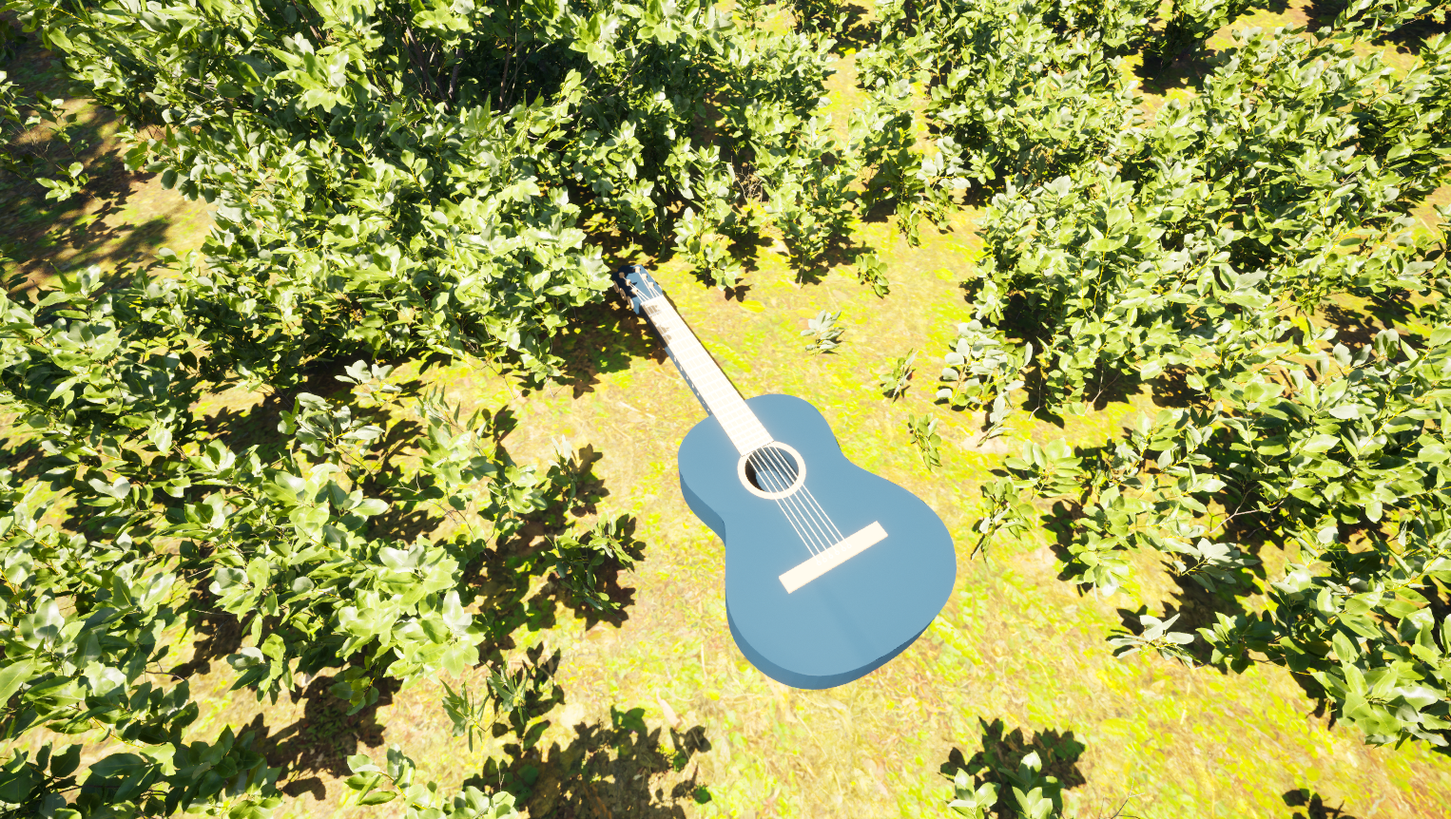Guitar: (539, 231, 998, 730)
